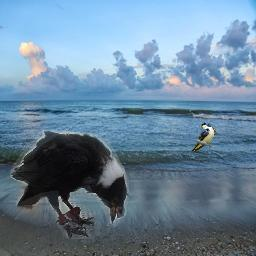Crow: (10, 130, 129, 239)
Swallow: (191, 122, 216, 152)
